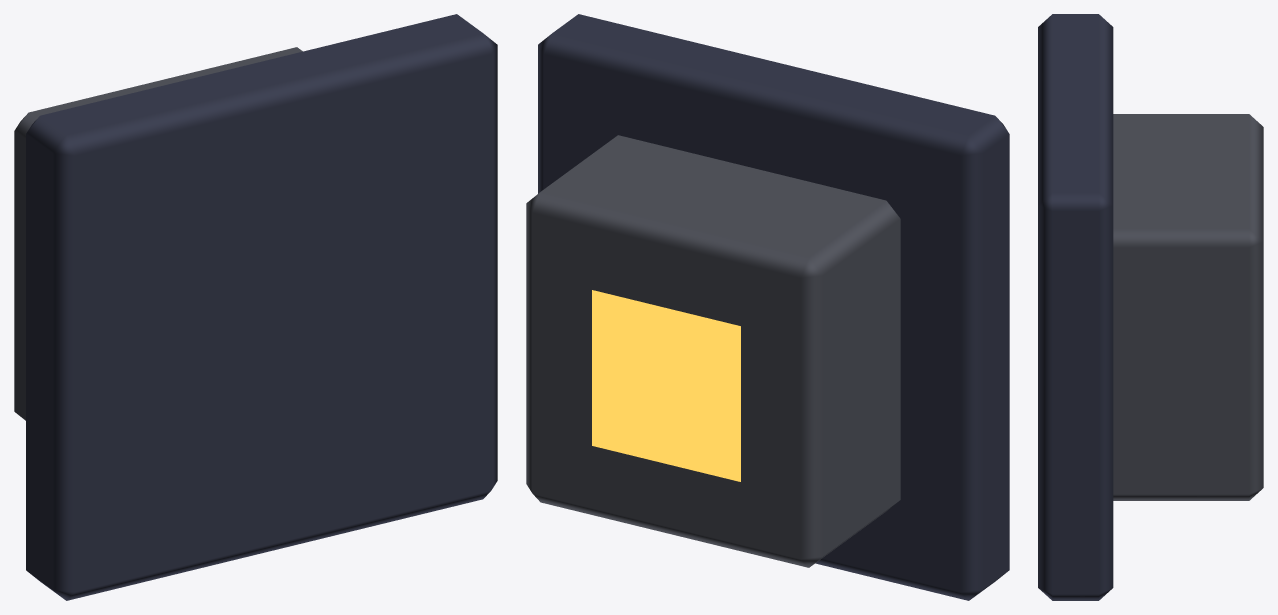
File: int.fixture.wall-lamp.glb
3 views of the same model, side by side, from view 1: azimuth 30°, elevation 25°; view 2: azimuth 150°, elevation 25°; view 3: azimuth 270°, elevation 25° (orthographic). The views are drawn at different scales.
Parts seen in each view (by area): view 1: int.fixture.wall-lamp; view 2: int.fixture.wall-lamp; view 3: int.fixture.wall-lamp.
Boxes of the visible parts, x1=… form: int.fixture.wall-lamp: x1=14, y1=14, x2=497, y2=600; int.fixture.wall-lamp: x1=526, y1=14, x2=1009, y2=600; int.fixture.wall-lamp: x1=1038, y1=14, x2=1263, y2=600.
Size of the model in its own units: 0.375 by 0.375 by 0.1877.
